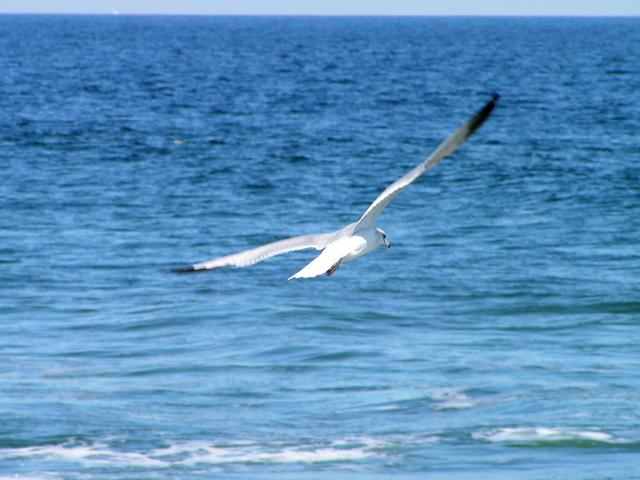Bird: (163, 92, 501, 281)
